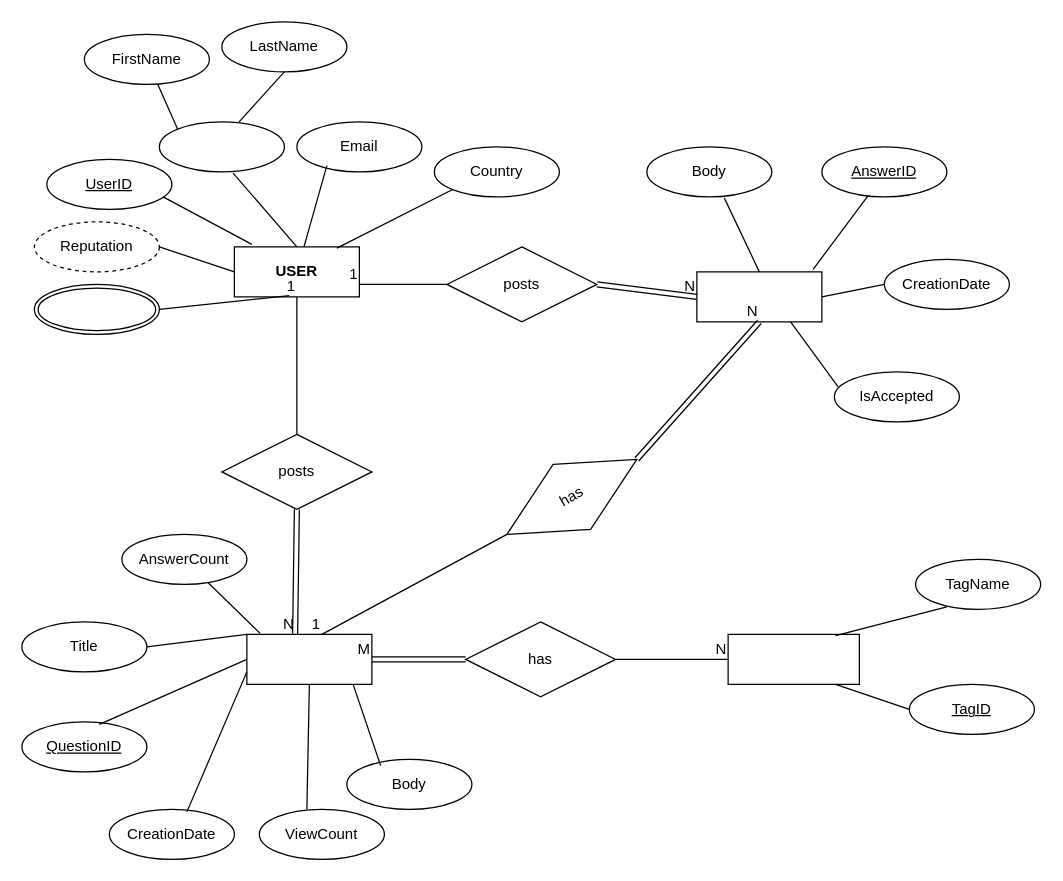
This 1063x881 diagram has some shape labels left out. Each missing label, with the centre of its shape:
"ANSWER" goes at [759,296].
"Name" goes at [221,146].
"QUESTION" goes at [309,658].
"Skills" goes at [96,308].
"TAG" goes at [793,658].
